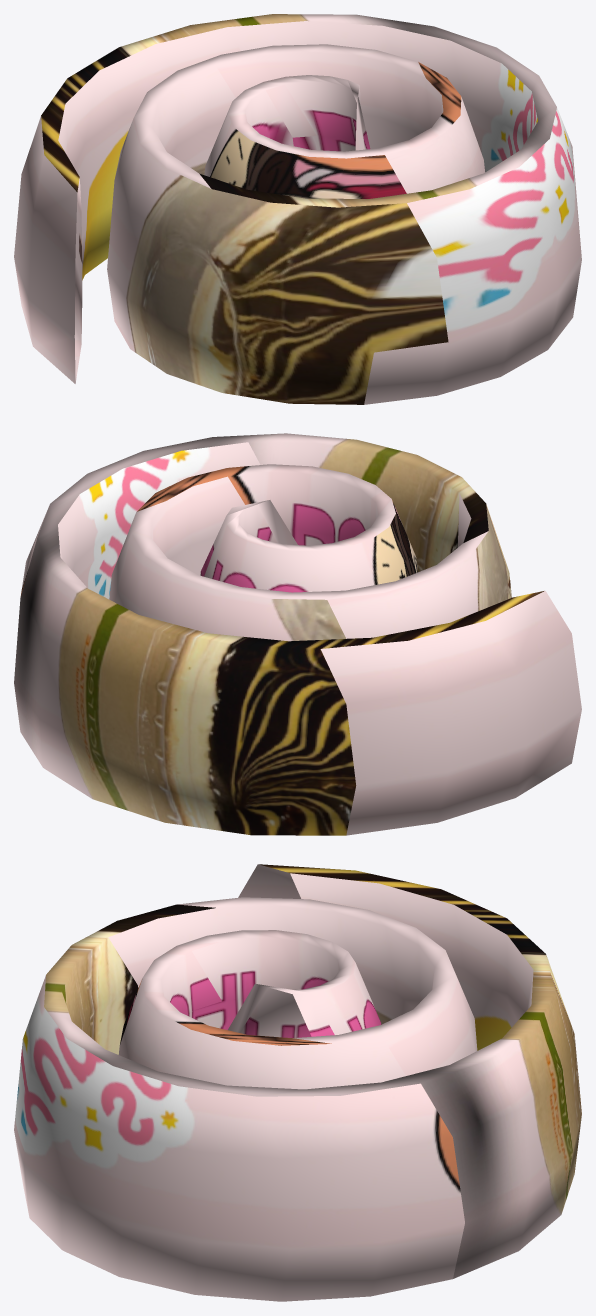
Rendered from prop_dubai_chocolate_roll.glb.
3 renders of one model, top to bottom at view 1: azimuth 30°, elevation 25°; view 2: azimuth 150°, elevation 25°; view 3: azimuth 270°, elevation 25°, orthographic. The views are drawn at different scales.
Visible parts, largest first — view 1: prop_dubai_chocolate_roll; view 2: prop_dubai_chocolate_roll; view 3: prop_dubai_chocolate_roll.
Boxes of the visible parts, x1,y1,x2,y2 form: prop_dubai_chocolate_roll: [14, 14, 581, 404]; prop_dubai_chocolate_roll: [14, 433, 581, 835]; prop_dubai_chocolate_roll: [14, 864, 581, 1301].
Size of the model in its own units: 0.0571 by 0.0228 by 0.0527.
1 material, 1 textured.
